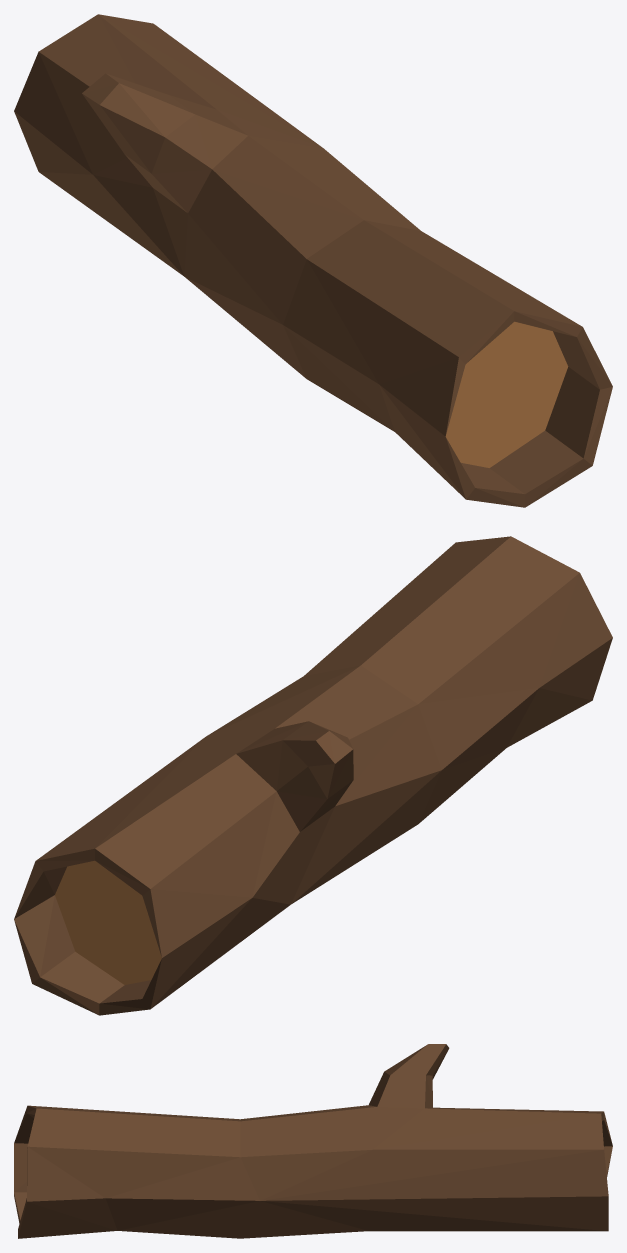
Rendered from ChangShuGan.fbx.
3 views of the same model, one above another, from view 1: azimuth 30°, elevation 25°; view 2: azimuth 150°, elevation 25°; view 3: azimuth 270°, elevation 25° (orthographic). The views are drawn at different scales.
Visible parts, largest first — view 1: Stump4; view 2: Stump4; view 3: Stump4.
Part boxes in pixels (left/top/right/bottom): Stump4: left=14, top=14, right=612, bottom=507; Stump4: left=14, top=536, right=612, bottom=1015; Stump4: left=14, top=1044, right=612, bottom=1238.
Size of the model in its own units: 1.1 by 1.11 by 3.83.
